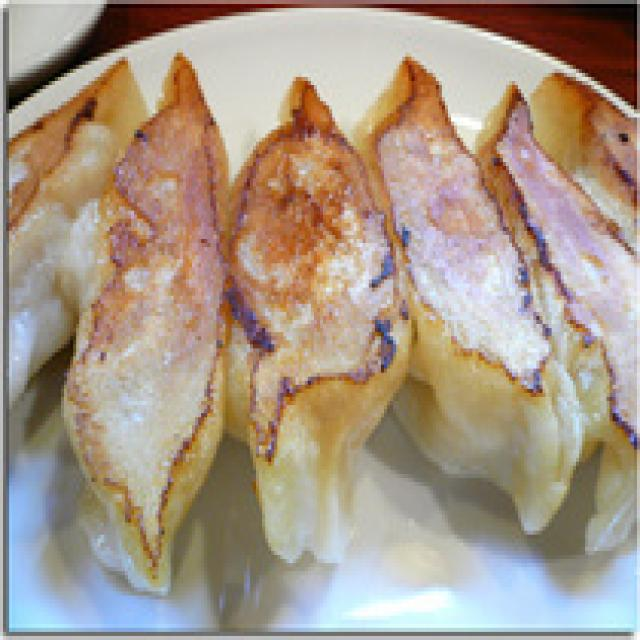带馅早点: (0, 28, 640, 571)
